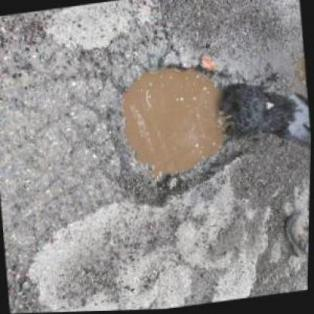Hueco: (91, 50, 266, 216)
